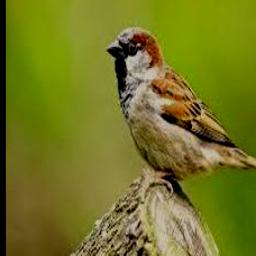Sparrow: (106, 26, 256, 197)
